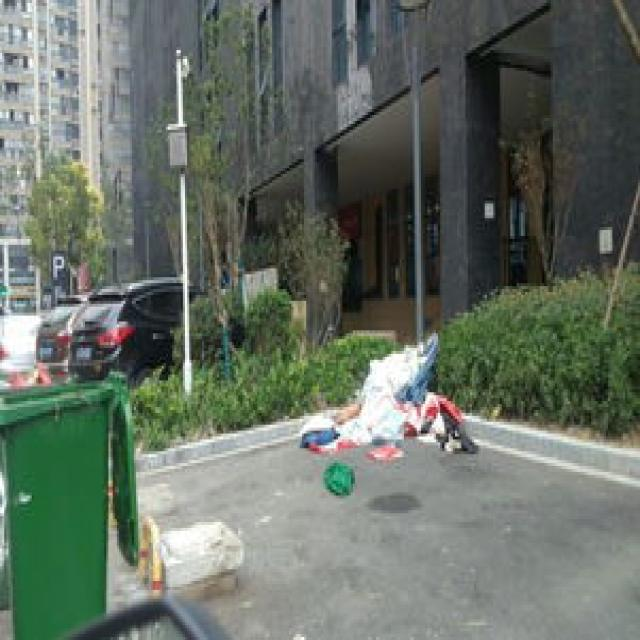garbage: (296, 328, 476, 492)
garbage_bin: (0, 369, 136, 637)
